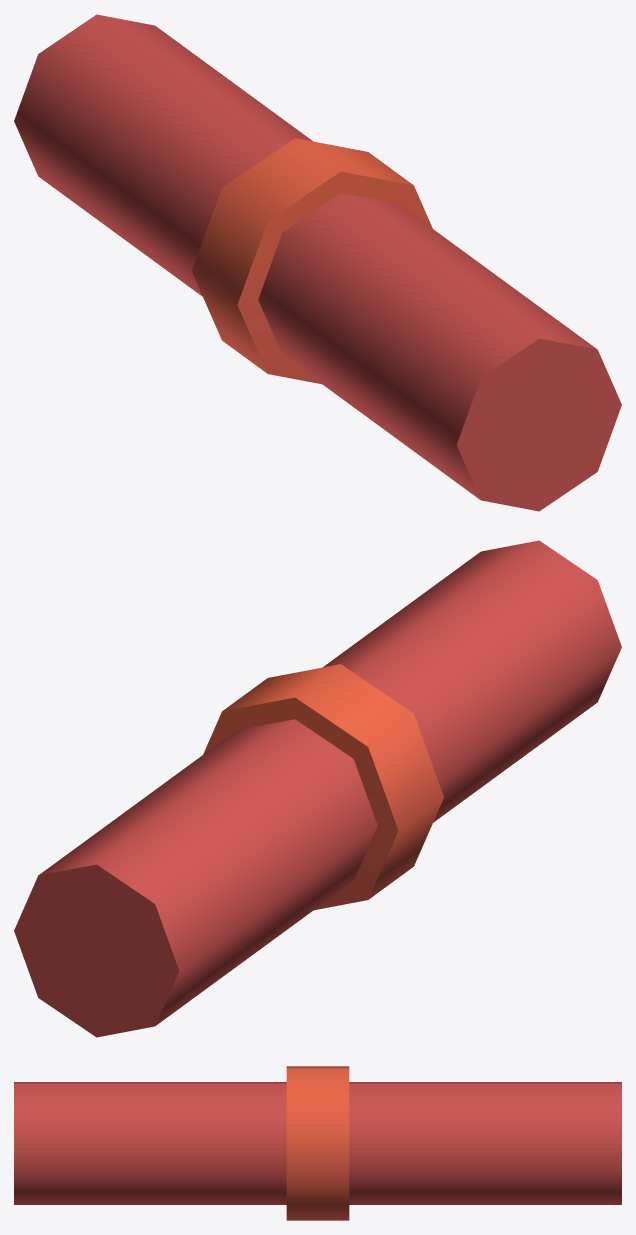
The model's file is support-small-horizontal-ring.glb.
3 views of the same model, one above another, from view 1: azimuth 30°, elevation 25°; view 2: azimuth 150°, elevation 25°; view 3: azimuth 270°, elevation 25° (orthographic). The views are drawn at different scales.
Visible parts, largest first — view 1: support-small-horizontal-ring; view 2: support-small-horizontal-ring; view 3: support-small-horizontal-ring.
Part boxes in pixels (x1,y1,x2,y2): support-small-horizontal-ring: (14, 14, 621, 511); support-small-horizontal-ring: (14, 540, 621, 1037); support-small-horizontal-ring: (14, 1066, 621, 1220).
Bounding box in the file's own units: 0.2697 × 0.2697 × 1.
Materials: 1 (1 with a texture image).
